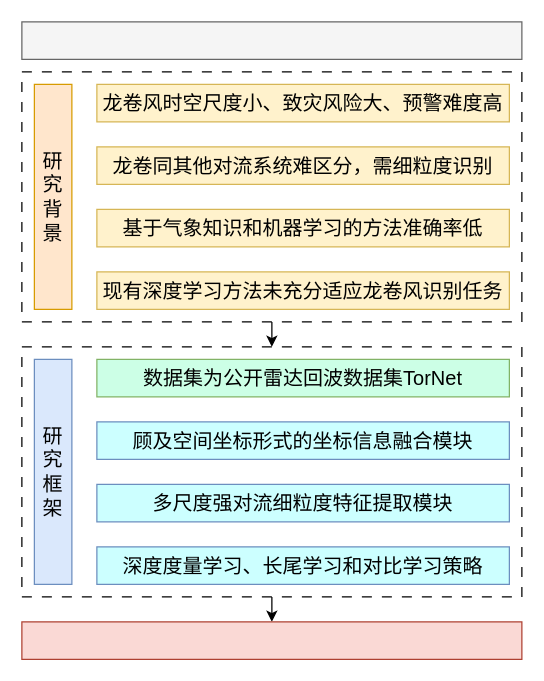
This 544x681 diagram has some shape labels left out. The box of each missing label's shape, as (x1, y1, x2, y2) in pixels:
提出顾及空间坐标信息的 龙卷雷达回波细粒度识别模型: (21, 621, 522, 659)
顾及空间坐标信息的龙卷雷达回波细粒度识别: (21, 21, 522, 59)
